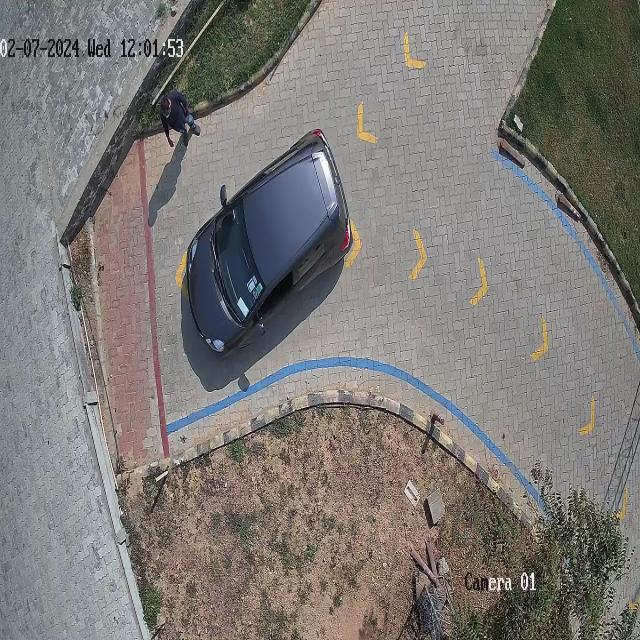car: (186, 127, 355, 361)
